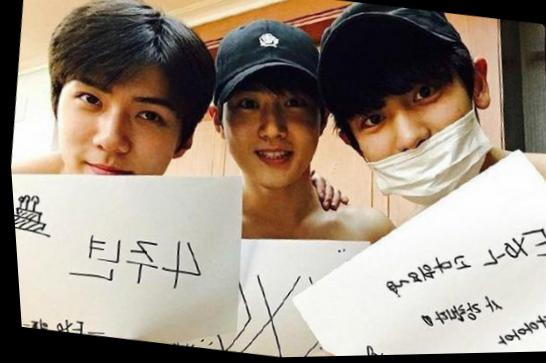NONE: (45, 69, 200, 219), (215, 81, 326, 189)
WRONG: (318, 34, 499, 209)
